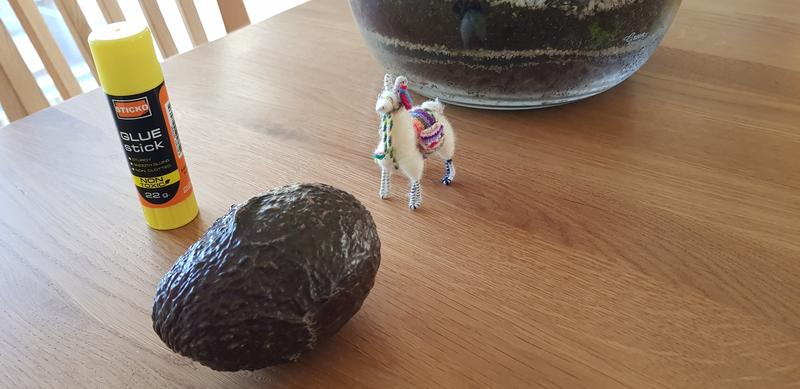Avocado: (149, 182, 388, 379)
Glue-Stick: (83, 15, 205, 231)
Horse-Toy: (362, 65, 464, 210)
